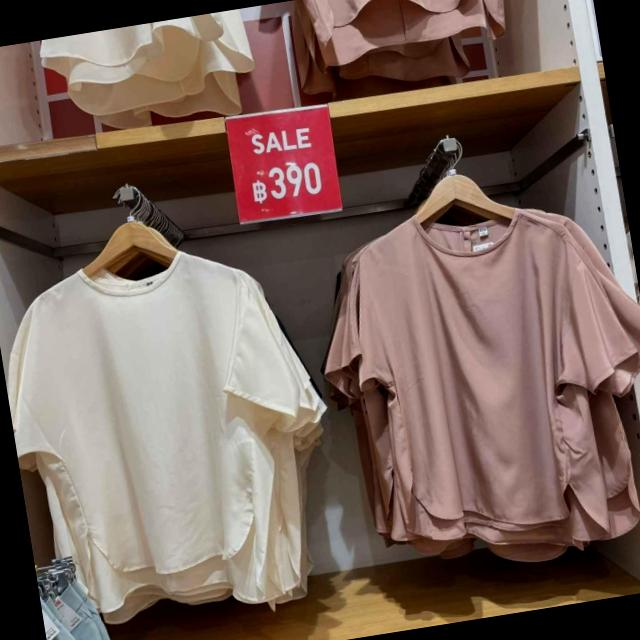Tshirt: (0, 232, 331, 608), (303, 190, 640, 555)
